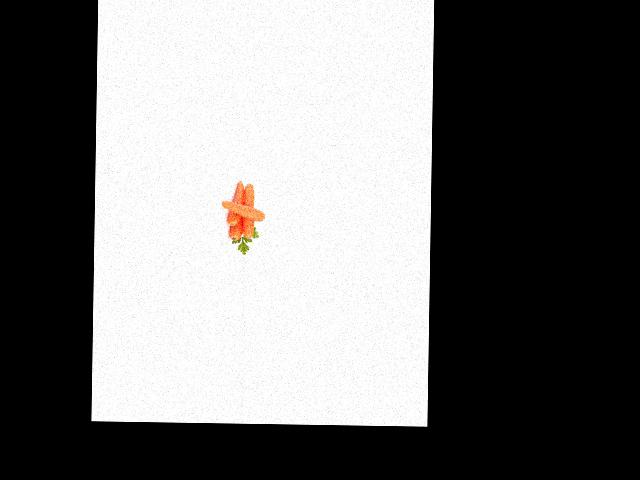carrot: (227, 189, 246, 240)
